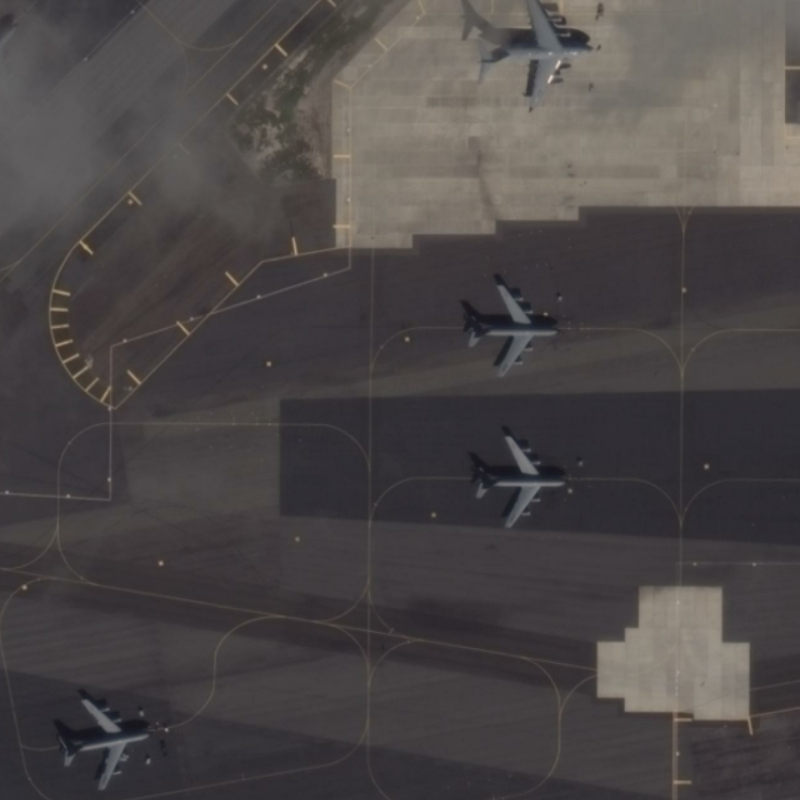A14: (52, 693, 157, 793), (461, 281, 562, 382), (472, 431, 568, 532)
A3: (470, 1, 599, 111)
